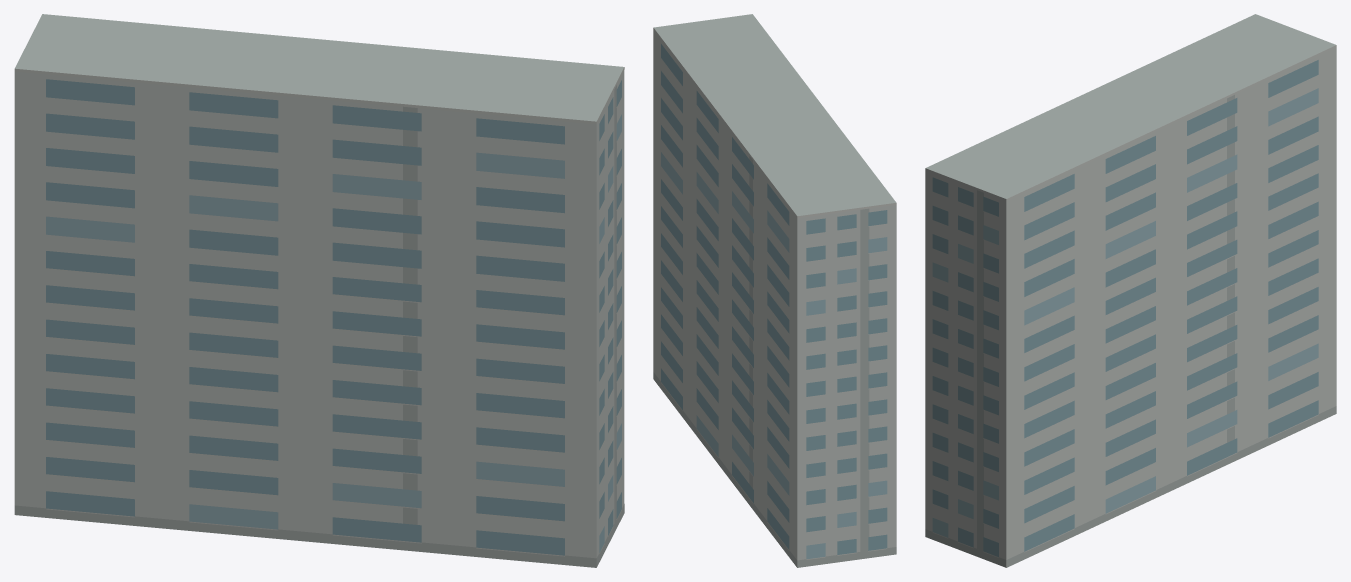
File: residential-d095ea56-8c40-494a-b259-6cd535082bcd.glb
3 renders of one model, left to right at view 1: azimuth 30°, elevation 25°; view 2: azimuth 150°, elevation 25°; view 3: azimuth 270°, elevation 25°, orthographic. The views are drawn at different scales.
Visible parts, largest first — view 1: residential-d095ea56-8c40-494a-b259-6cd535082bcd.tmp; view 2: residential-d095ea56-8c40-494a-b259-6cd535082bcd.tmp; view 3: residential-d095ea56-8c40-494a-b259-6cd535082bcd.tmp.
Part boxes in pixels (bbox=[...]): residential-d095ea56-8c40-494a-b259-6cd535082bcd.tmp: bbox=[14, 14, 624, 567]; residential-d095ea56-8c40-494a-b259-6cd535082bcd.tmp: bbox=[653, 14, 896, 567]; residential-d095ea56-8c40-494a-b259-6cd535082bcd.tmp: bbox=[925, 14, 1336, 567].
Size of the model in its own units: 43.07 by 40 by 40.43.
